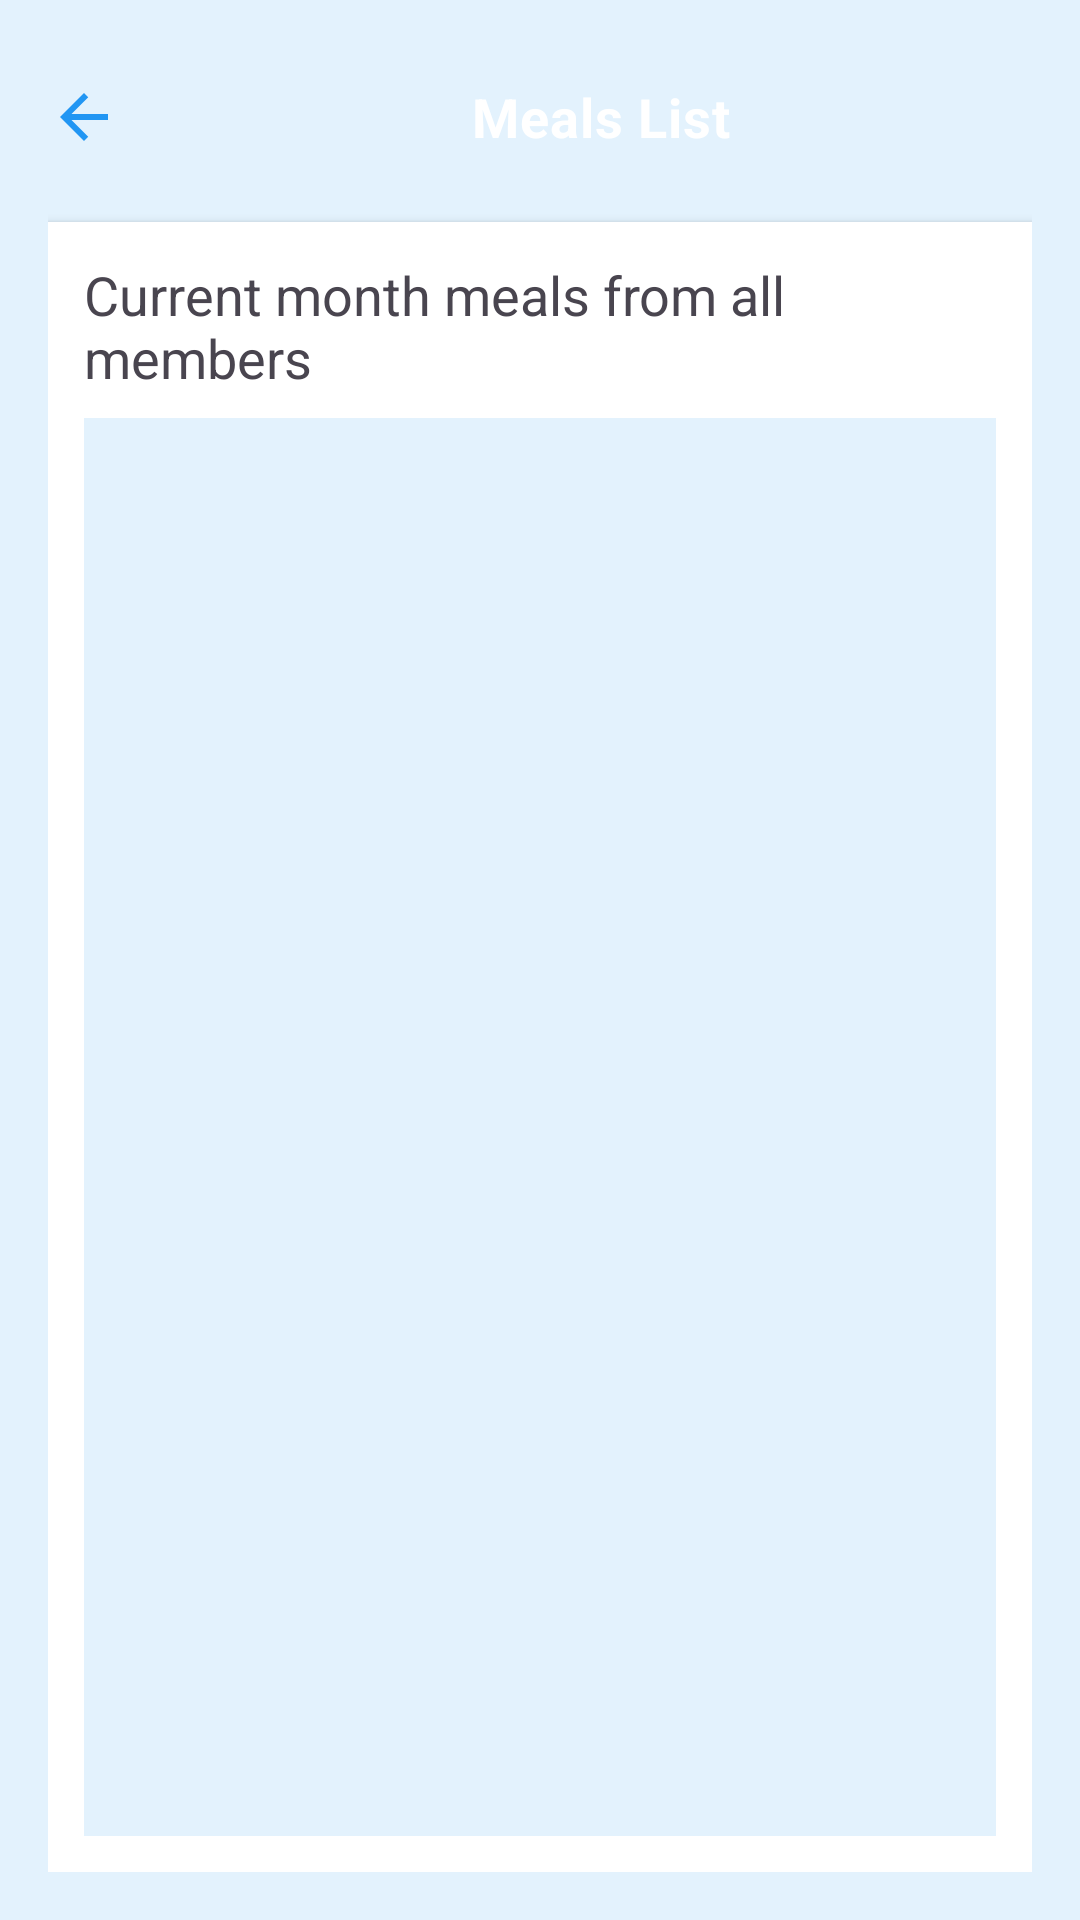

Screen size 1080x1920. Icon name, then its center in pixels as [x,y]:
arrow back: [84,117]
